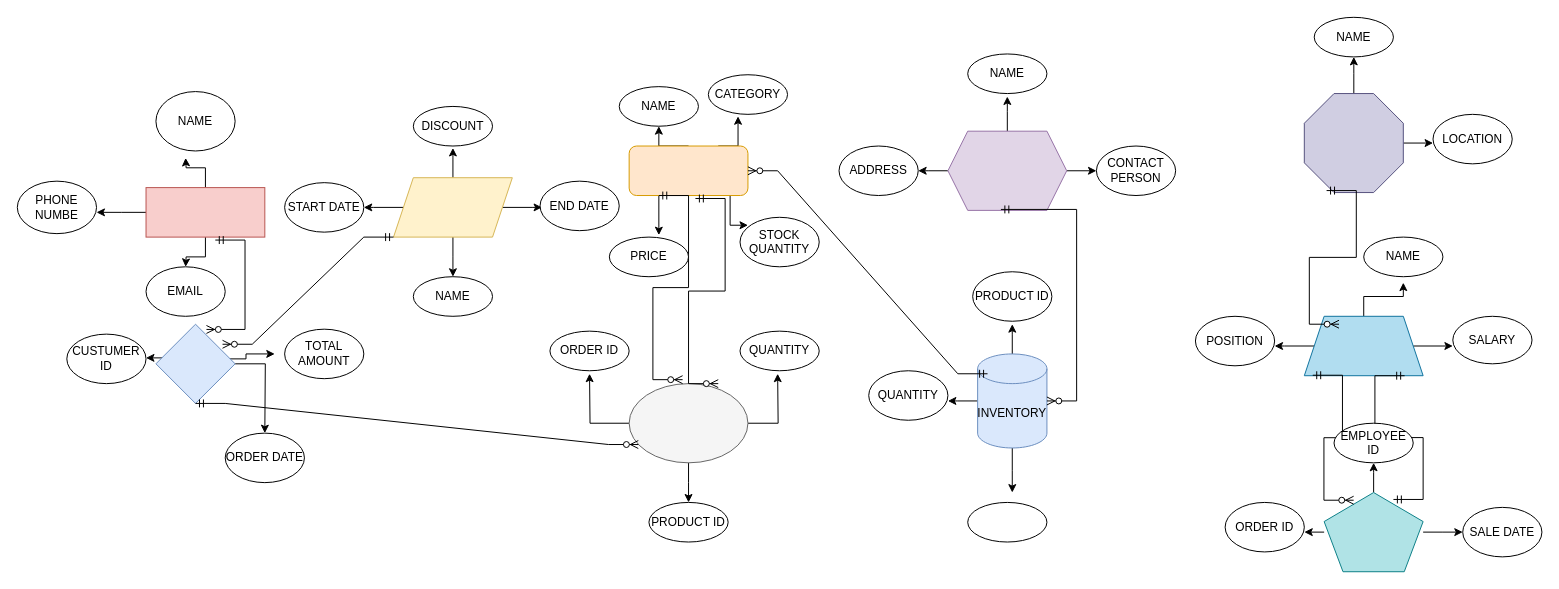
Some shapes in this 1559 by 589 pixel diagram are drawn without their labels. The centre of each missing label's shape, as x and y in pixels:
"CUSTOMERS" belongs at (x=205, y=212).
"DEPARTMENTS" belongs at (x=1353, y=143).
"EMPLOYEES" belongs at (x=1363, y=345).
"ORDER_ITEMS" belongs at (x=688, y=423).
"ORDERS" belongs at (x=195, y=363).
"PRODUCTS" belongs at (x=688, y=170).
"PROMOTIONS" belongs at (x=452, y=207).
"SALES" belongs at (x=1373, y=532).
"SUPPLIER ID" belongs at (x=1007, y=521).
"SUPPLIERS" belongs at (x=1007, y=170).
